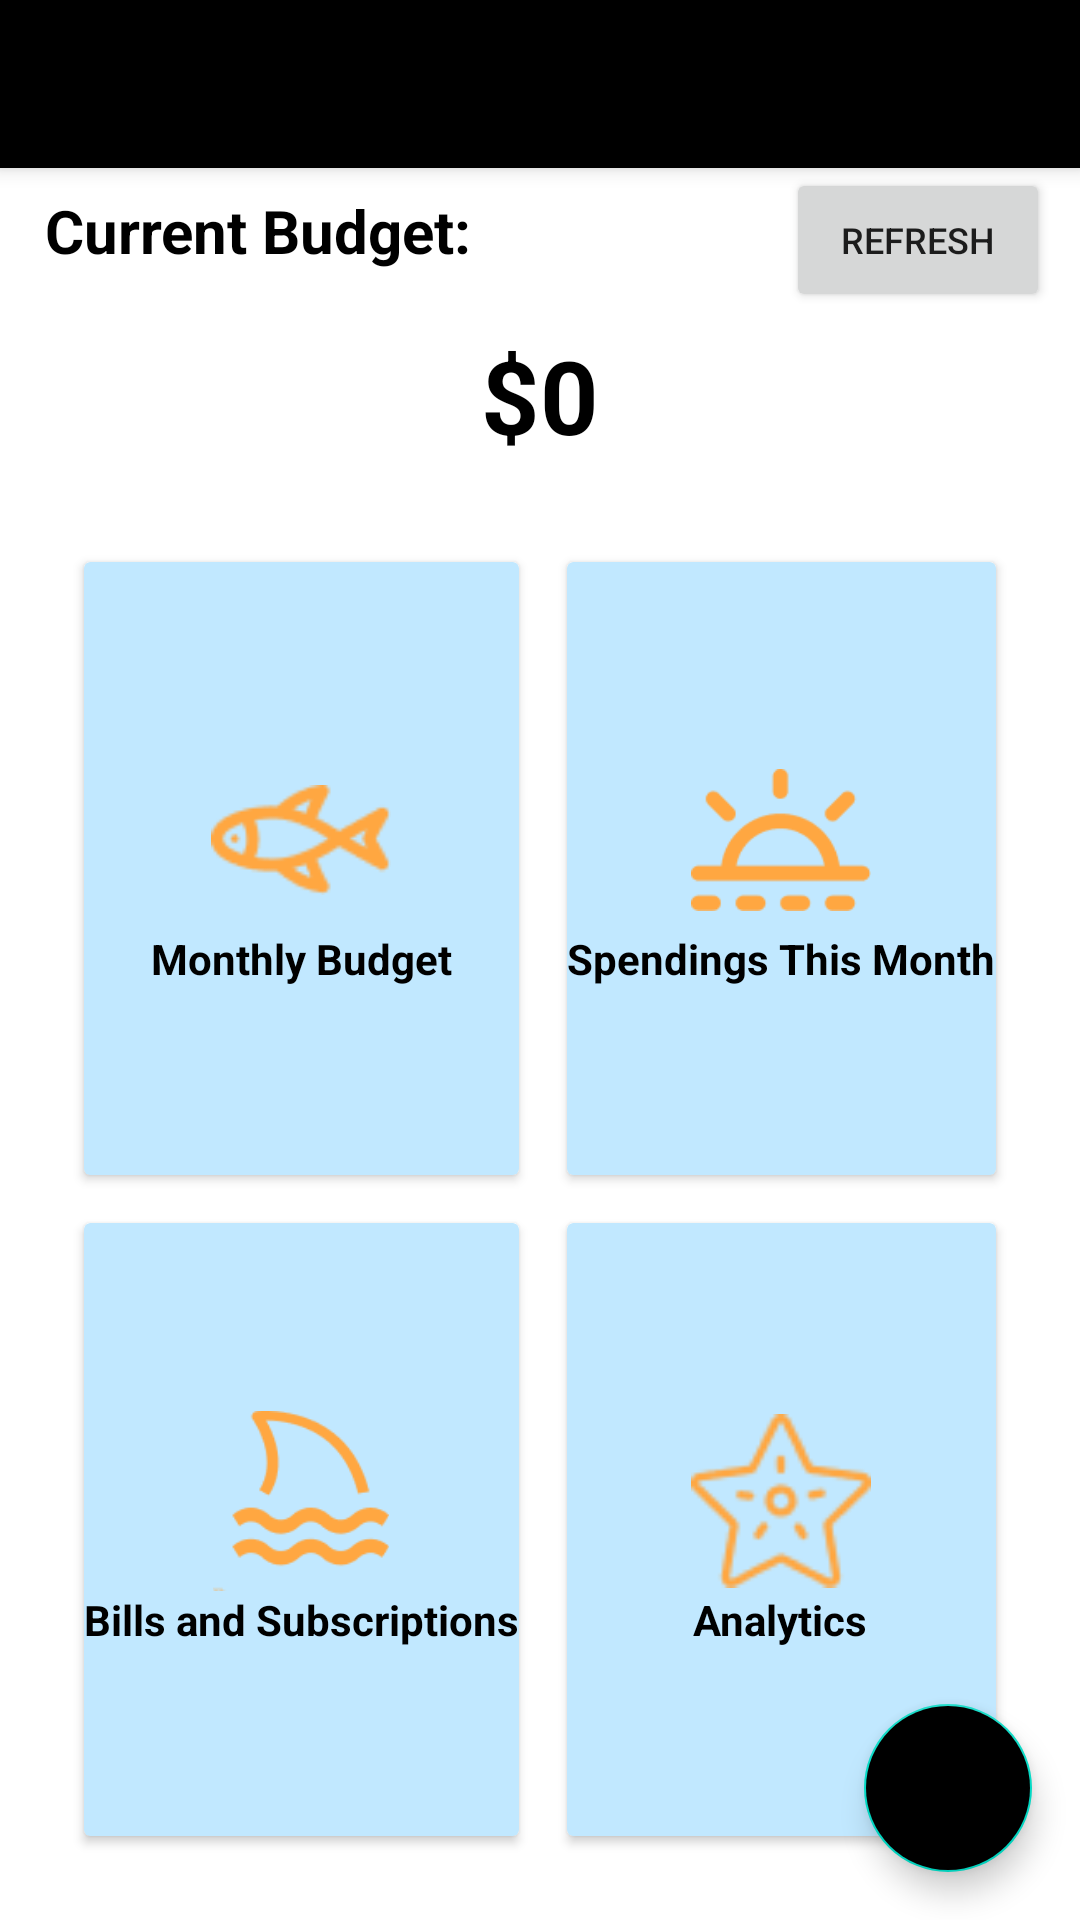

Icon bounding boxes for this 1080x1920 phone screenshot, format {"left": x1, "top": y1, "right": x2, "bottom": y2}:
fin: {"left": 213, "top": 1411, "right": 389, "bottom": 1591}
fish: {"left": 211, "top": 785, "right": 389, "bottom": 894}
star: {"left": 691, "top": 1414, "right": 871, "bottom": 1588}
sun: {"left": 691, "top": 769, "right": 871, "bottom": 911}
